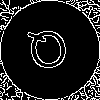Q: (25, 25, 73, 81)
